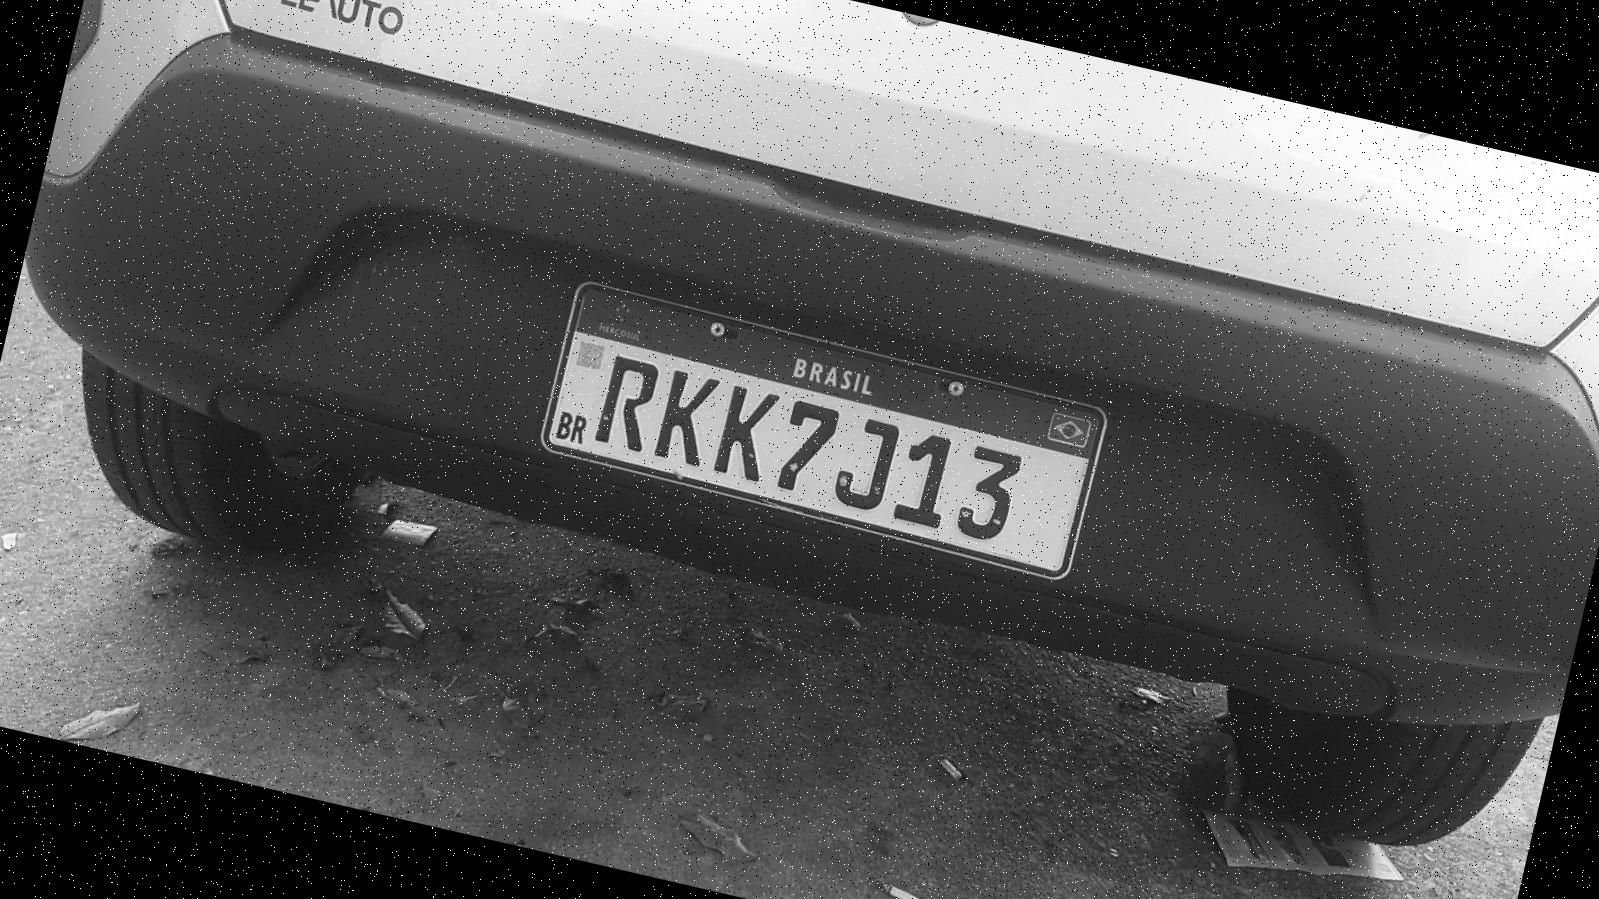placa_mercosul: (543, 282, 1110, 580)
